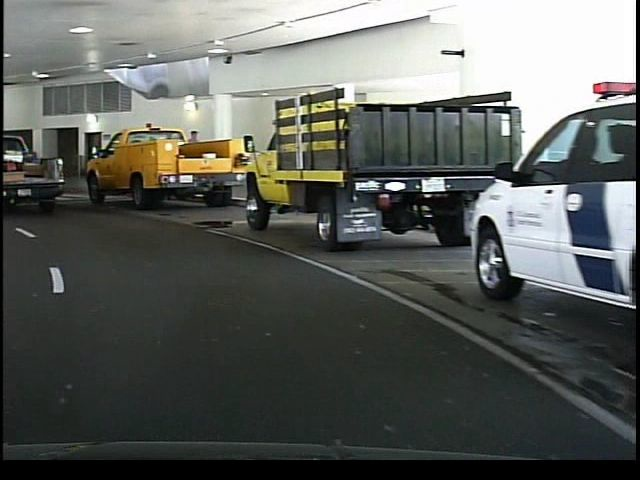person: (181, 125, 204, 195)
